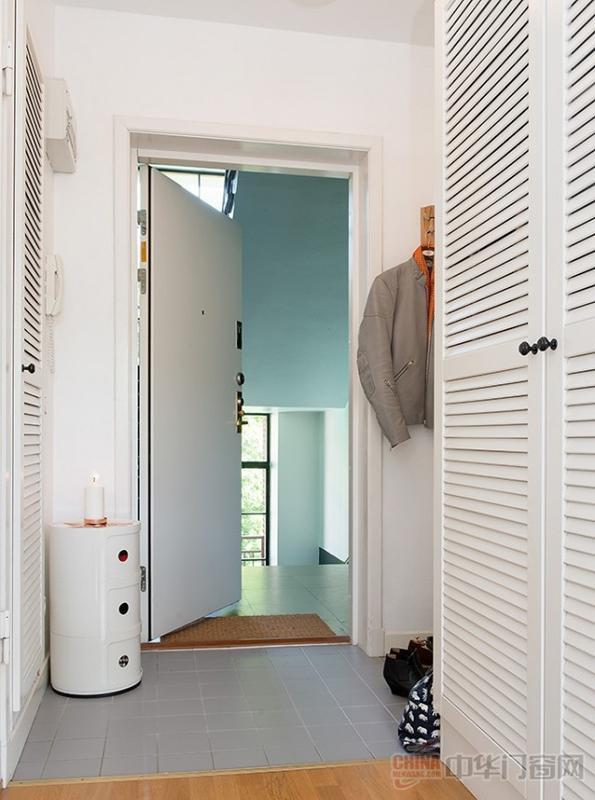door: (143, 169, 249, 630)
